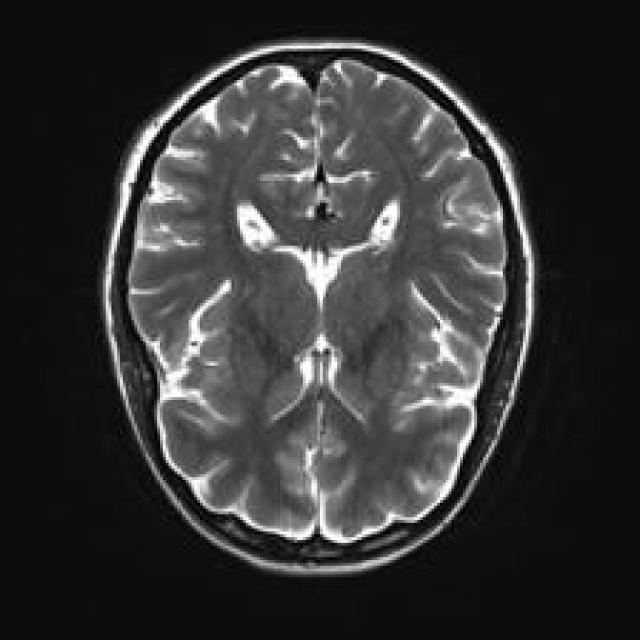no_tumor: (96, 36, 540, 582)
